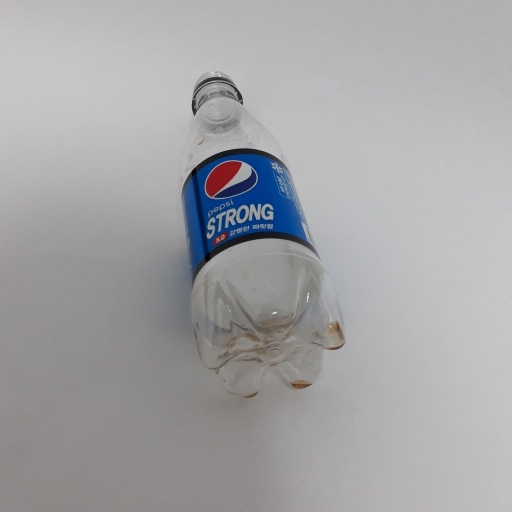Plastic_0: (175, 67, 348, 404)
